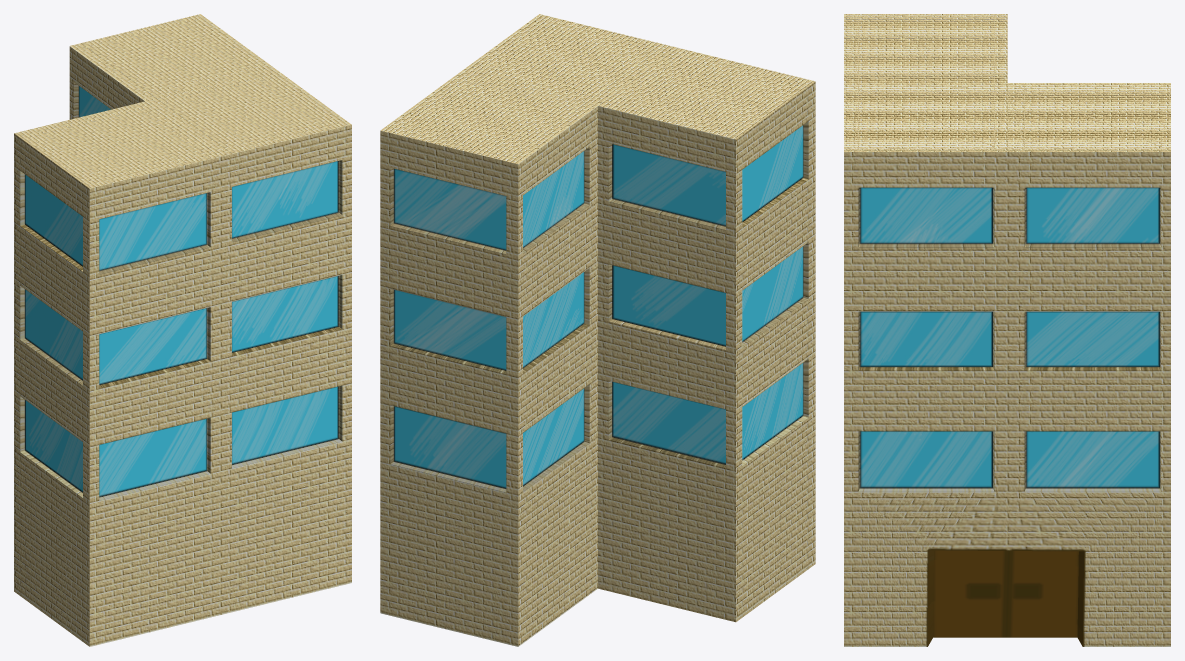
File: edificio3.fbx
3 views of the same model, side by side, from view 1: azimuth 30°, elevation 25°; view 2: azimuth 150°, elevation 25°; view 3: azimuth 270°, elevation 25° (orthographic). The views are drawn at different scales.
Parts seen in each view (by area): view 1: edificio3; view 2: edificio3; view 3: edificio3.
Part boxes in pixels (bbox=[...]): edificio3: bbox=[14, 14, 351, 646]; edificio3: bbox=[380, 14, 815, 646]; edificio3: bbox=[844, 14, 1170, 646].
Size of the model in its own units: 18.92 by 31.61 by 18.92.
